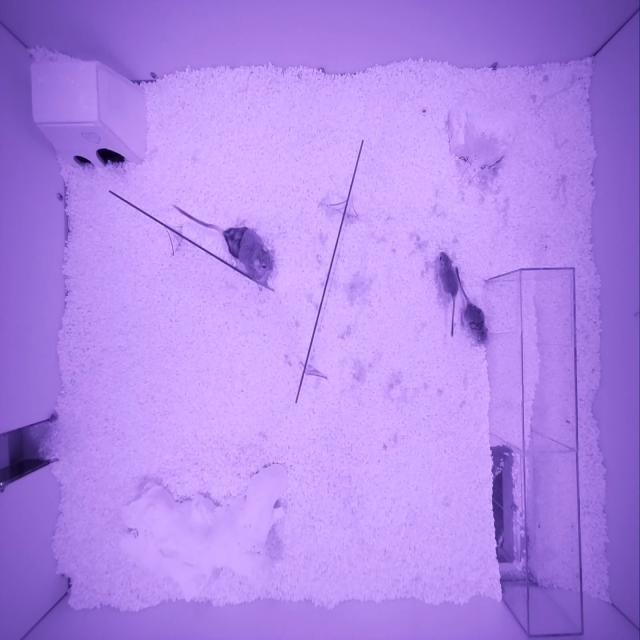adult_back: (223, 226, 273, 276)
pup_fluffy: (436, 251, 459, 299)
pup_spotted: (462, 301, 489, 345)
